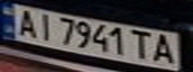1: (106, 25, 130, 56)
4: (90, 23, 109, 53)
7: (54, 15, 78, 46)
9: (72, 19, 93, 49)
A: (148, 33, 181, 65), (12, 7, 42, 38)
I: (33, 11, 57, 42)
T: (127, 28, 157, 61)
